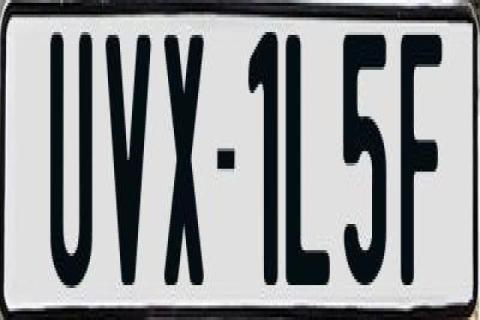0: (344, 32, 388, 300), (245, 24, 281, 294)
F: (400, 29, 448, 291)
L: (284, 32, 332, 294)
U: (46, 32, 96, 300)
V: (104, 32, 156, 285)
X: (164, 29, 212, 297)
